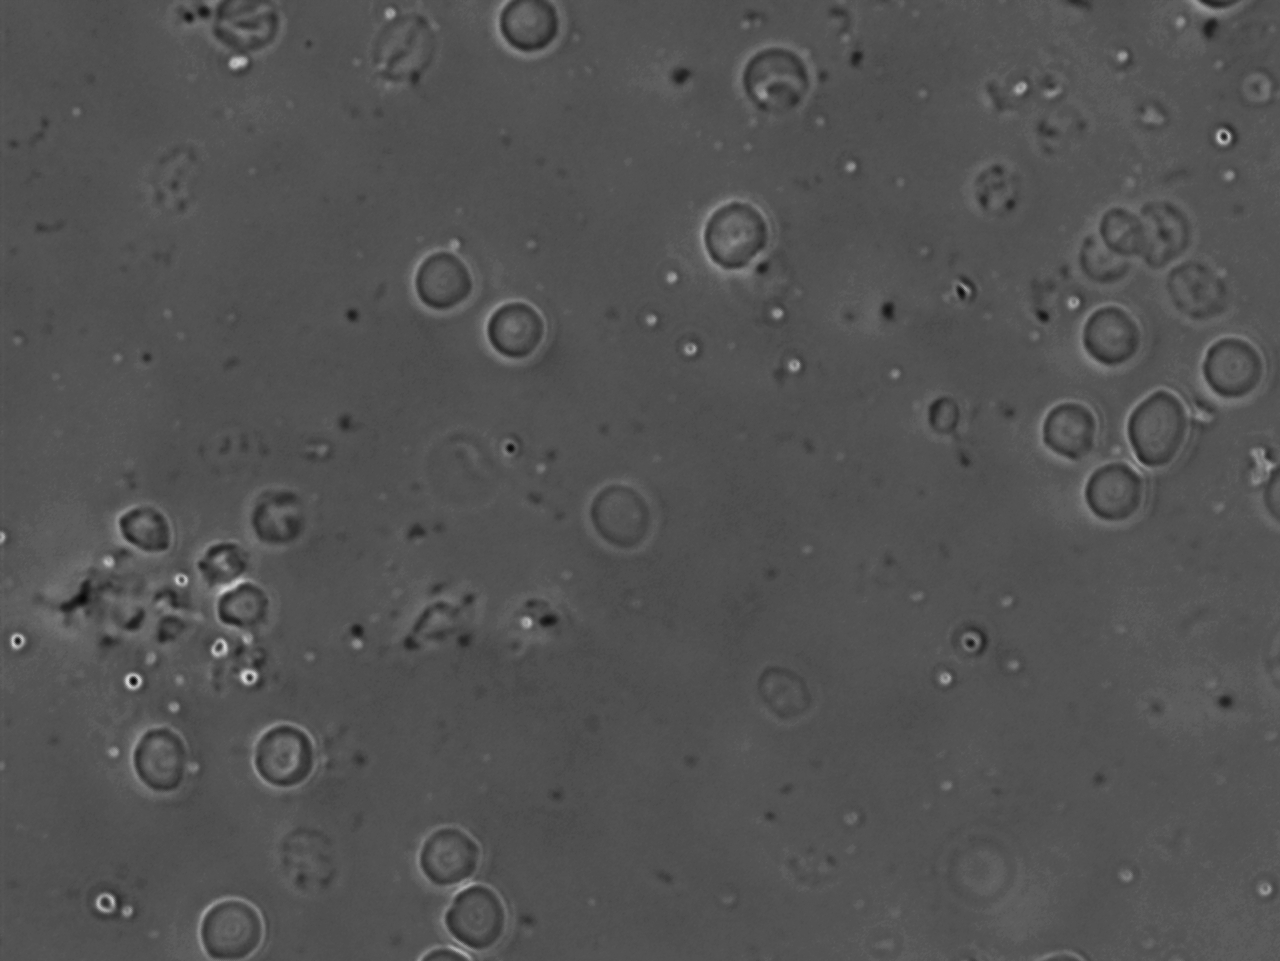depth:0: (1106, 380, 1205, 480), (737, 35, 835, 126), (696, 191, 788, 280), (1076, 448, 1166, 538), (1191, 319, 1275, 413), (469, 293, 562, 377), (580, 476, 673, 560), (1030, 382, 1115, 467), (245, 717, 330, 799), (120, 721, 203, 802), (433, 882, 520, 958), (405, 818, 488, 896), (186, 889, 277, 961), (402, 246, 483, 321), (1068, 297, 1146, 372)
